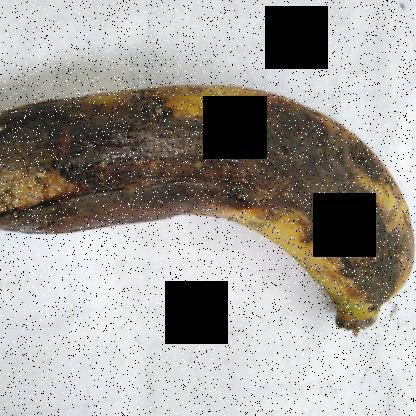rotten: (16, 59, 414, 287)
